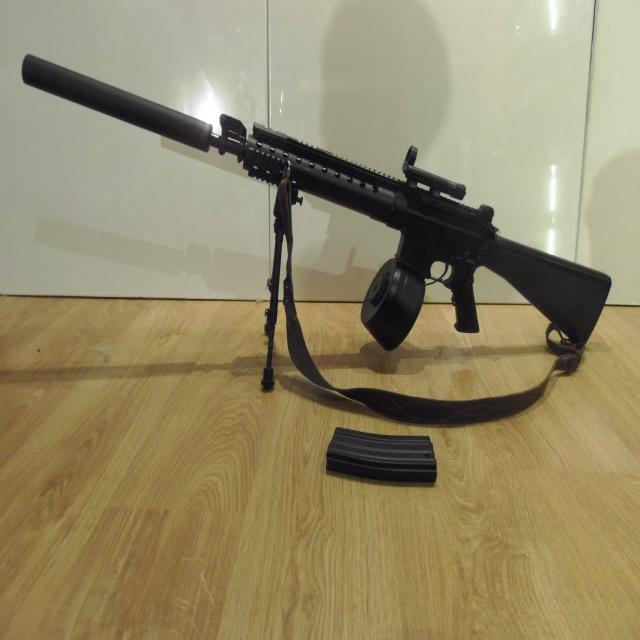firearm: (22, 54, 611, 352)
